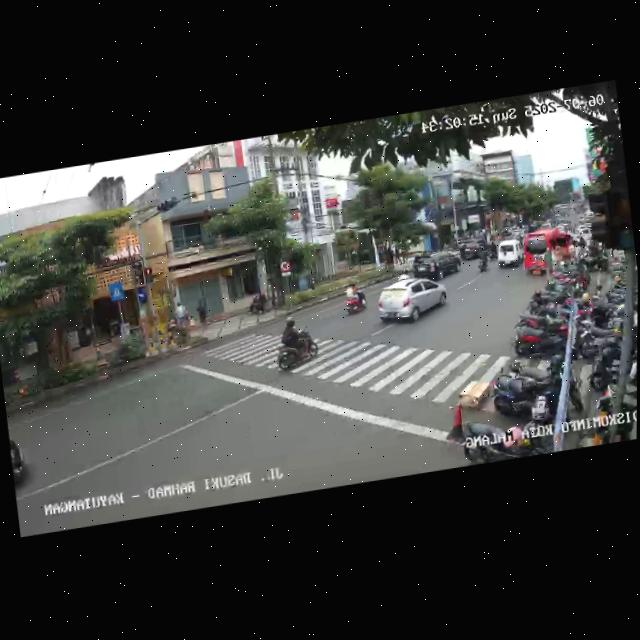car: (372, 273, 450, 332), (520, 225, 578, 279), (8, 422, 40, 503), (410, 249, 462, 281), (494, 238, 525, 272), (458, 237, 487, 262)
motorcycle: (269, 314, 322, 376), (340, 282, 366, 315), (475, 248, 490, 275)
